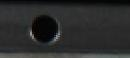holes: (29, 13, 60, 43)
